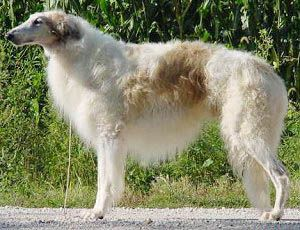borzoi: (5, 7, 299, 223)
